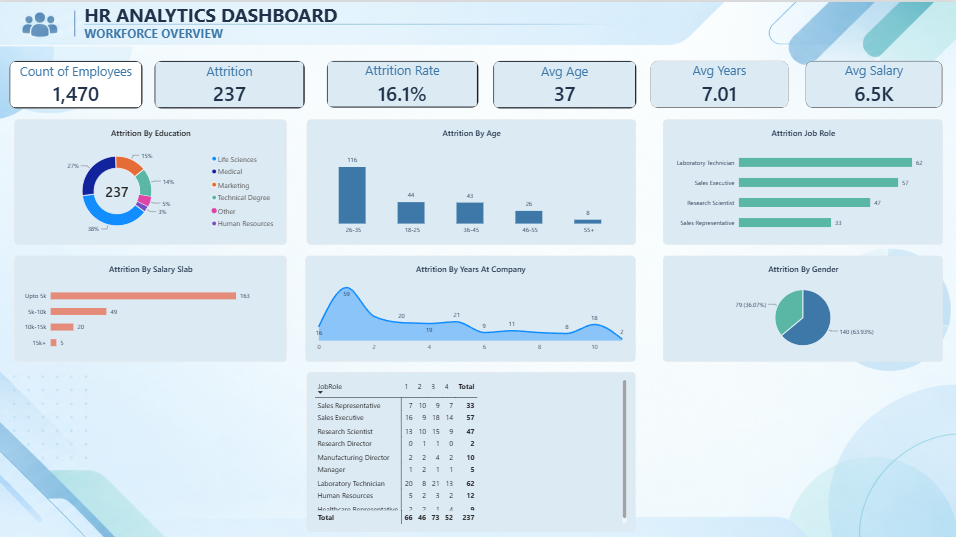

The dashboard page shown, as its layout file describes it:
{"tool":"powerbi","page":{"name":"HR Analytics Dashboard.","canvas":[1920,1080],"ordinal":0},"visuals":[{"type":"textbox","box":[172.5,0,1460,52.5],"z":0},{"type":"textbox","box":[172.5,27.5,390,67.5],"z":1000},{"type":"cardVisual","title":"Count of Employees","fields":{"Data":["CountNonNull(HR_Analytics.EmpID)"]},"box":[23.6,116.4,267.3,96.4],"z":2000},{"type":"cardVisual","title":"Count of Employees","fields":{"Data":["Sum(HR_Analytics.AttritionCount)"]},"box":[312.7,116.4,301.8,96.4],"z":3000},{"type":"cardVisual","title":"Count of Employees","fields":{"Data":["HR_Analytics.AttritionRate"]},"box":[656.4,118.2,303.6,94.5],"z":4000},{"type":"cardVisual","title":"Count of Employees","fields":{"Data":["Avg(HR_Analytics.Age)"]},"box":[989.1,116.4,287.3,96.4],"z":5000},{"type":"cardVisual","title":"Count of Employees","fields":{"Data":["Avg(HR_Analytics.YearsAtCompany)"]},"box":[1305.5,118.2,276.4,94.5],"z":6000},{"type":"cardVisual","title":"Count of Employees","fields":{"Data":["Avg(HR_Analytics.MonthlyIncome)"]},"box":[1614.5,118.2,274.5,94.5],"z":7000},{"type":"donutChart","title":"Attrition By Education","fields":{"Category":["HR_Analytics.EducationField"],"Y":["Sum(HR_Analytics.AttritionCount)"]},"box":[31.7,235,545,250],"z":8000},{"type":"columnChart","title":"Attrition By Age","fields":{"Category":["HR_Analytics.AgeGroup"],"Y":["Sum(HR_Analytics.AttritionCount)"]},"box":[616.7,235,658.3,250],"z":9000},{"type":"barChart","title":"Attrition Job Role","fields":{"Category":["HR_Analytics.JobRole"],"Y":["Sum(HR_Analytics.AttritionCount)"]},"box":[1330,235,560,250],"z":10000},{"type":"barChart","title":"Attrition By Salary Slab","fields":{"Category":["HR_Analytics.SalarySlab"],"Y":["Sum(HR_Analytics.AttritionCount)"]},"box":[31.7,506.7,545,211.7],"z":11000},{"type":"areaChart","title":"Attrition By Years At Company","fields":{"Category":["HR_Analytics.YearsAtCompany"],"Y":["Sum(HR_Analytics.AttritionCount)"]},"box":[615,506.7,660,211.7],"z":12000},{"type":"pieChart","title":"Attrition By Gender","fields":{"Category":["HR_Analytics.Gender"],"Y":["Sum(HR_Analytics.AttritionCount)"]},"box":[1330,506.7,560,211.7],"z":13000},{"type":"pivotTable","fields":{"Columns":["HR_Analytics.JobSatisfaction"],"Rows":["HR_Analytics.JobRole"],"Values":["Sum(HR_Analytics.AttritionCount)"]},"box":[617.5,740,657.5,320],"z":14000}]}

Visuals, with their boxes in screenshot pixels (x1, y1, x2, y2), scaled from the page's 1920x1080 canvas onto the 956x537 screenshot:
textbox: select_region(86, 0, 813, 26)
textbox: select_region(86, 14, 280, 47)
"Count of Employees" cardVisual: select_region(12, 58, 145, 106)
"Count of Employees" cardVisual: select_region(156, 58, 306, 106)
"Count of Employees" cardVisual: select_region(327, 59, 478, 106)
"Count of Employees" cardVisual: select_region(492, 58, 636, 106)
"Count of Employees" cardVisual: select_region(650, 59, 788, 106)
"Count of Employees" cardVisual: select_region(804, 59, 941, 106)
"Attrition By Education" donutChart: select_region(16, 117, 287, 241)
"Attrition By Age" columnChart: select_region(307, 117, 635, 241)
"Attrition Job Role" barChart: select_region(662, 117, 941, 241)
"Attrition By Salary Slab" barChart: select_region(16, 252, 287, 357)
"Attrition By Years At Company" areaChart: select_region(306, 252, 635, 357)
"Attrition By Gender" pieChart: select_region(662, 252, 941, 357)
pivotTable - HR_Analytics.JobSatisfaction x HR_Analytics.JobRole: select_region(307, 368, 635, 527)
